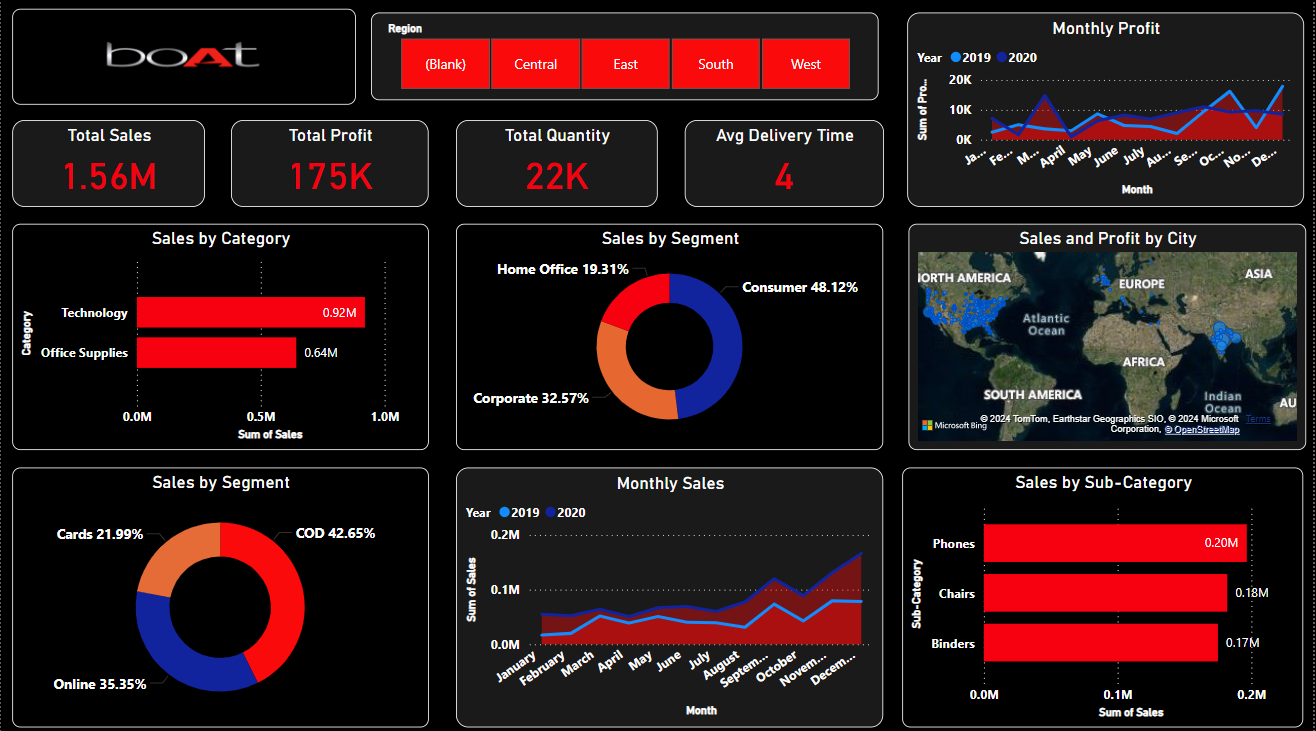

The page's visual inventory and layout, read from the dashboard file:
{"tool":"powerbi","page":{"name":"Page 1","canvas":[1280,720],"ordinal":0},"visuals":[{"type":"card","title":"Total Sales","fields":{"Values":["Sum(Sheet1.Sales)"]},"box":[10.7,116.7,188.1,84.5],"z":0},{"type":"card","title":"Total Profit","fields":{"Values":["Sum(Sheet1.Profit)"]},"box":[223.8,116.7,192.9,84.5],"z":1},{"type":"card","title":"Total Quantity","fields":{"Values":["Sum(Sheet1.Quantity)"]},"box":[444,116.7,196.4,84.5],"z":2},{"type":"card","title":"Avg Delivery Time","fields":{"Values":["Avg(Sheet1.Avg Delivert Time)"]},"box":[666.7,116.7,194,84.5],"z":3},{"type":"areaChart","title":"Monthly Profit ","fields":{"Category":["Sheet1.Order Date.Variation.Date Hierarchy.Month"],"Y":["Sum(Sheet1.Profit)"],"Series":["Sheet1.Order Date.Variation.Date Hierarchy.Year"]},"box":[884.5,11.9,386.9,189.3],"z":4},{"type":"clusteredBarChart","title":"Sales by Category","fields":{"Y":["Sum(Sheet1.Sales)"],"Category":["Sheet1.Category"]},"box":[11,218.3,406.1,220.7],"z":5},{"type":"clusteredBarChart","title":"Sales by Sub-Category","fields":{"Y":["Sum(Sheet1.Sales)"],"Category":["Sheet1.Sub-Category"]},"box":[879.3,456.1,391.5,253.7],"z":6},{"type":"areaChart","title":"Monthly Sales","fields":{"Category":["Sheet1.Order Date.Variation.Date Hierarchy.Month"],"Series":["Sheet1.Order Date.Variation.Date Hierarchy.Year"],"Y":["Sum(Sheet1.Sales)"]},"box":[443.9,456.1,417.1,253.7],"z":7},{"type":"donutChart","title":"Sales by Segment","fields":{"Category":["Sheet1.Segment"],"Y":["Sum(Sheet1.Sales)"]},"box":[443.9,218.3,417.1,220.7],"z":8},{"type":"donutChart","title":"Sales by Segment","fields":{"Y":["Sum(Sheet1.Sales)"],"Category":["Sheet1.Payment Mode"]},"box":[11,456.1,406.1,253.7],"z":9},{"type":"map","title":"Sales and Profit by City","fields":{"Category":["Sheet1.City"],"Size":["Sum(Sheet1.Sales)"]},"box":[885.4,218.3,387.8,220.7],"z":10},{"type":"slicer","title":"Region","fields":{"Values":["Sheet1.Region"]},"box":[361,12.2,495.1,85.4],"z":11},{"type":"image","box":[11,8.5,335.4,93.9],"z":12}]}

Visuals, with their boxes in screenshot pixels (x1, y1, x2, y2), scaled from the page's 1280x720 canvas onto the 1316x731 screenshot:
"Total Sales" card: left=11, top=118, right=204, bottom=204
"Total Profit" card: left=230, top=118, right=428, bottom=204
"Total Quantity" card: left=456, top=118, right=658, bottom=204
"Avg Delivery Time" card: left=685, top=118, right=885, bottom=204
"Monthly Profit " areaChart: left=909, top=12, right=1307, bottom=204
"Sales by Category" clusteredBarChart: left=11, top=222, right=429, bottom=446
"Sales by Sub-Category" clusteredBarChart: left=904, top=463, right=1307, bottom=721
"Monthly Sales" areaChart: left=456, top=463, right=885, bottom=721
"Sales by Segment" donutChart: left=456, top=222, right=885, bottom=446
"Sales by Segment" donutChart: left=11, top=463, right=429, bottom=721
"Sales and Profit by City" map: left=910, top=222, right=1309, bottom=446
"Region" slicer: left=371, top=12, right=880, bottom=99
image: left=11, top=9, right=356, bottom=104
